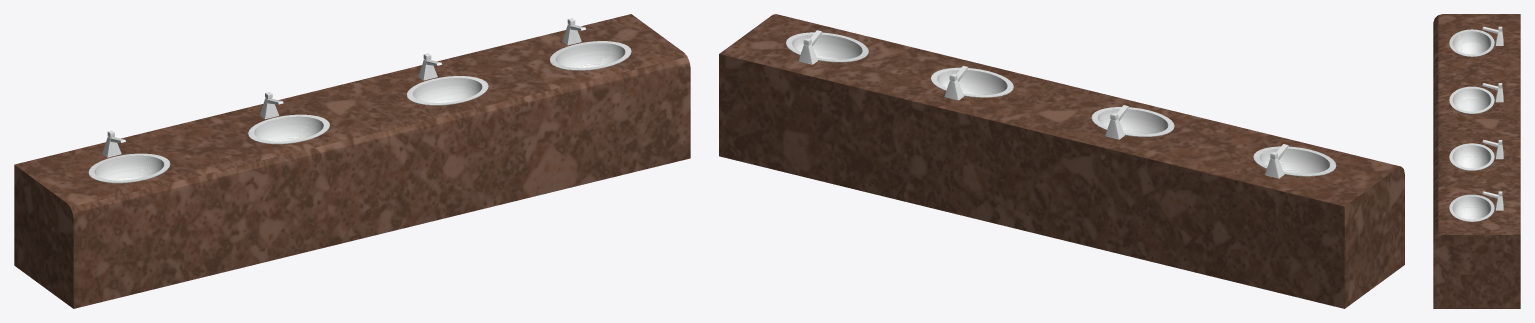
Rendered from sink13.glb.
3 views of the same model, side by side, from view 1: azimuth 30°, elevation 25°; view 2: azimuth 150°, elevation 25°; view 3: azimuth 270°, elevation 25° (orthographic). The views are drawn at different scales.
Visible parts, largest first — view 1: Cubo.004; view 2: Cubo.004; view 3: Cubo.004.
Part boxes in pixels (box(x1,y1,x2,y2)): Cubo.004: box(14, 14, 690, 308); Cubo.004: box(719, 14, 1404, 308); Cubo.004: box(1433, 14, 1520, 308).
Size of the model in its own units: 5.98 by 1.14 by 0.9971.
Materials: 1 (1 with a texture image).
